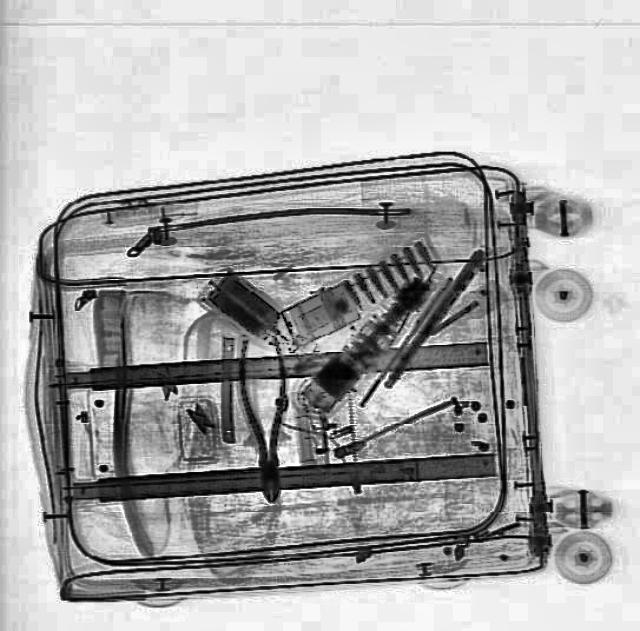Pliers: (234, 334, 294, 504)
